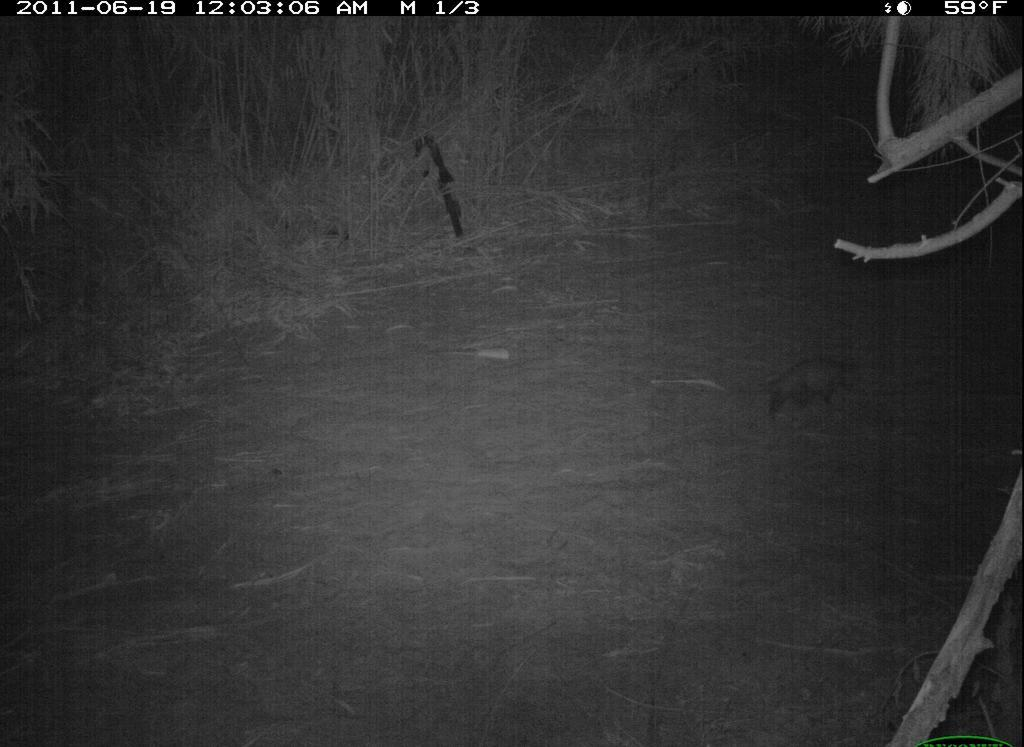opossum: (730, 351, 862, 431)
